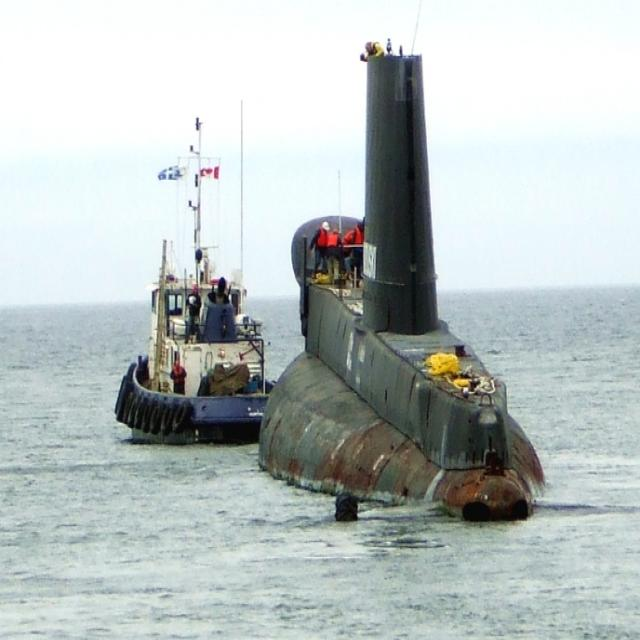submarine: (255, 36, 540, 526)
